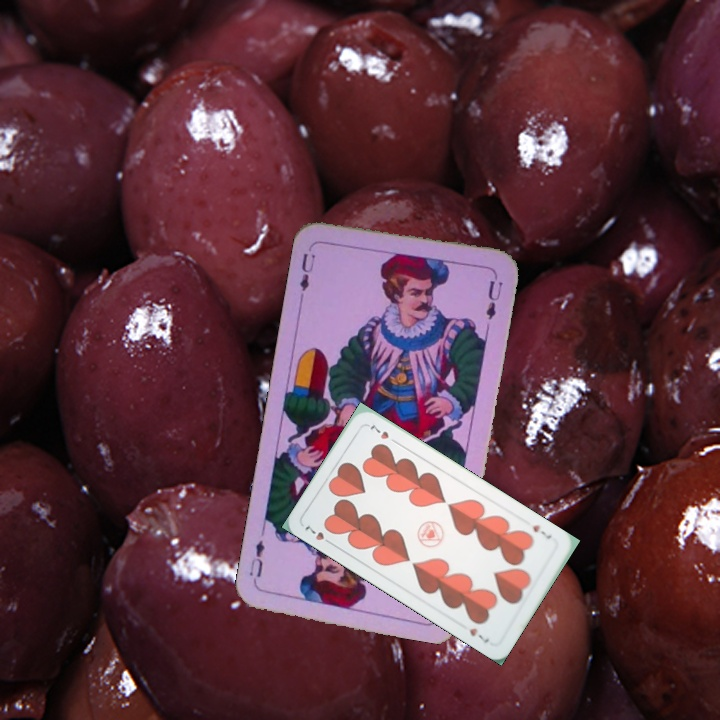EU: (296, 249, 318, 300)
H7: (300, 522, 336, 548), (528, 521, 554, 542)
